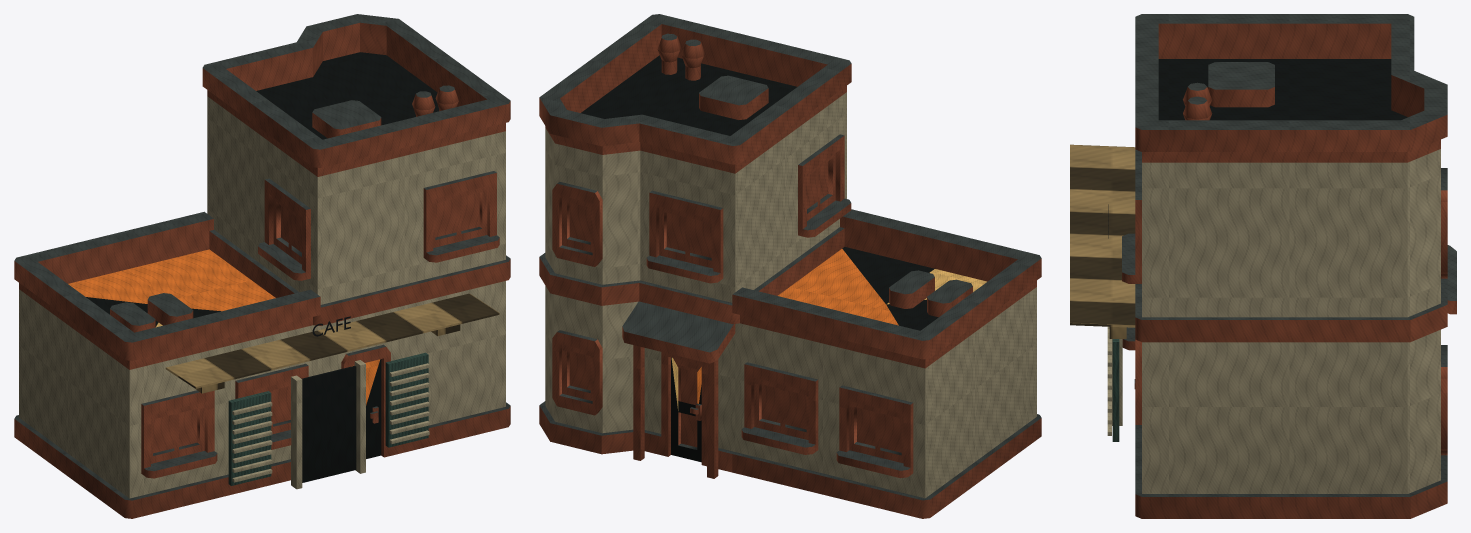
File: shopfront-b.glb
3 renders of one model, left to right at view 1: azimuth 30°, elevation 25°; view 2: azimuth 150°, elevation 25°; view 3: azimuth 270°, elevation 25°, orthographic. The views are drawn at different scales.
Parts seen in each view (by area): view 1: shopfront-b-original-structure, detail-awning, shop-recessed-entry, shop-shutter.001, shop-shutter, shop-door-jamb, shop-door-jamb.001; view 2: shopfront-b-original-structure; view 3: shopfront-b-original-structure, detail-awning, shop-shutter.001.
Part boxes in pixels (box(x1,y1,x2,y2)): shopfront-b-original-structure: box(14, 14, 510, 518); detail-awning: box(165, 293, 499, 393); shop-recessed-entry: box(301, 365, 356, 482); shop-shutter.001: box(385, 352, 428, 447); shop-shutter: box(228, 391, 271, 485); shop-door-jamb: box(291, 375, 302, 489); shop-door-jamb.001: box(354, 360, 365, 473); shopfront-b-original-structure: box(539, 14, 1041, 518); shopfront-b-original-structure: box(1122, 14, 1456, 518); detail-awning: box(1070, 144, 1135, 338); shop-shutter.001: box(1112, 339, 1119, 441).
Bounding box in the file's own units: 8 × 6.5 × 5.77.
9 materials, 9 textured.
